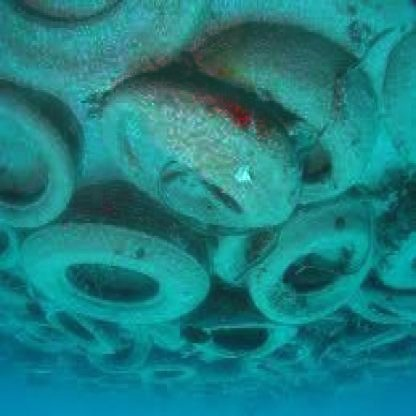tire: (206, 26, 388, 208), (21, 202, 238, 335), (117, 77, 304, 223), (243, 206, 382, 326), (2, 84, 93, 227), (183, 300, 304, 371)
